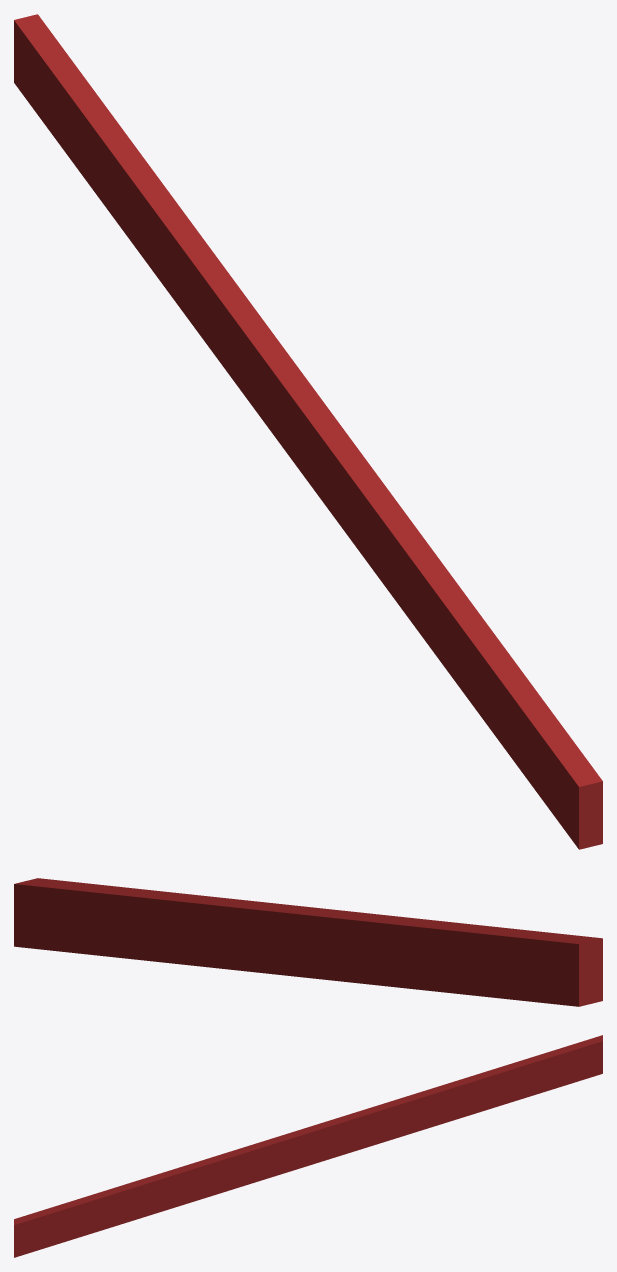
The model's file is Asian_Prop_Building_Modular_Roof_Rafter_Beam_01.FBX.
3 renders of one model, top to bottom at view 1: azimuth 30°, elevation 25°; view 2: azimuth 210°, elevation 25°; view 3: azimuth 270°, elevation 25°, orthographic. The views are drawn at different scales.
Parts seen in each view (by area): view 1: Asian_Prop_Building_Modular_Roof_Rafter_Beam_01; view 2: Asian_Prop_Building_Modular_Roof_Rafter_Beam_01; view 3: Asian_Prop_Building_Modular_Roof_Rafter_Beam_01.
Boxes of the visible parts, box(x1,y1,x2,y2) form: Asian_Prop_Building_Modular_Roof_Rafter_Beam_01: box(14, 14, 602, 849); Asian_Prop_Building_Modular_Roof_Rafter_Beam_01: box(14, 878, 602, 1006); Asian_Prop_Building_Modular_Roof_Rafter_Beam_01: box(14, 1035, 602, 1257).
Size of the model in its own units: 147 by 2447 by 6024.
